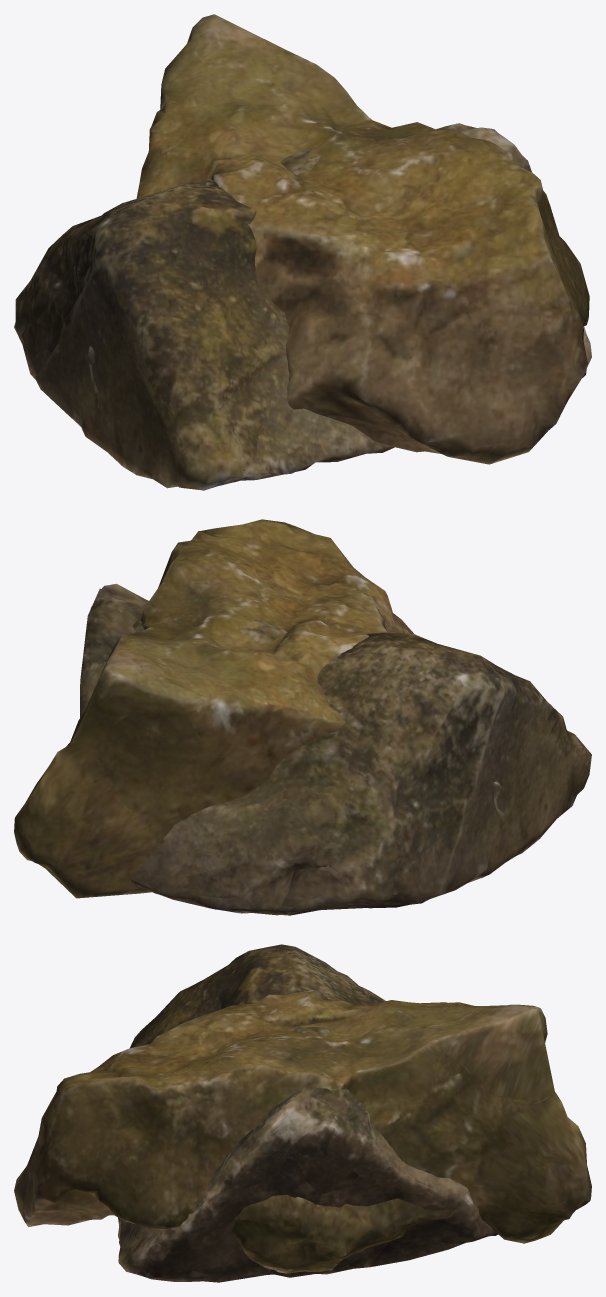
File: rocks.gltf
3 renders of one model, top to bottom at view 1: azimuth 30°, elevation 25°; view 2: azimuth 150°, elevation 25°; view 3: azimuth 270°, elevation 25°, orthographic. The views are drawn at different scales.
Visible parts, largest first — view 1: rock_06, rock_03, pebble_03; view 2: rock_06, rock_03, pebble_03; view 3: rock_06, rock_03, pebble_03.
Boxes of the visible parts, <box> form: rock_06: <box>87,14,589,464</box>; rock_03: <box>14,123,591,490</box>; pebble_03: <box>21,129,586,490</box>; rock_06: <box>14,519,504,898</box>; rock_03: <box>82,583,591,915</box>; pebble_03: <box>80,588,567,915</box>; rock_06: <box>14,990,591,1273</box>; rock_03: <box>118,944,495,1281</box>; pebble_03: <box>118,964,497,1282</box>.
Bounding box in the file's own units: 2.13 × 1.26 × 2.76.
Materials: 1 (1 with a texture image).
